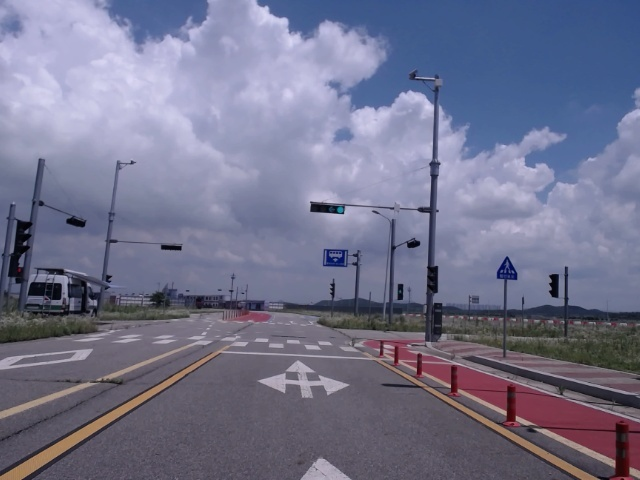all_green_4: (310, 201, 344, 216)
